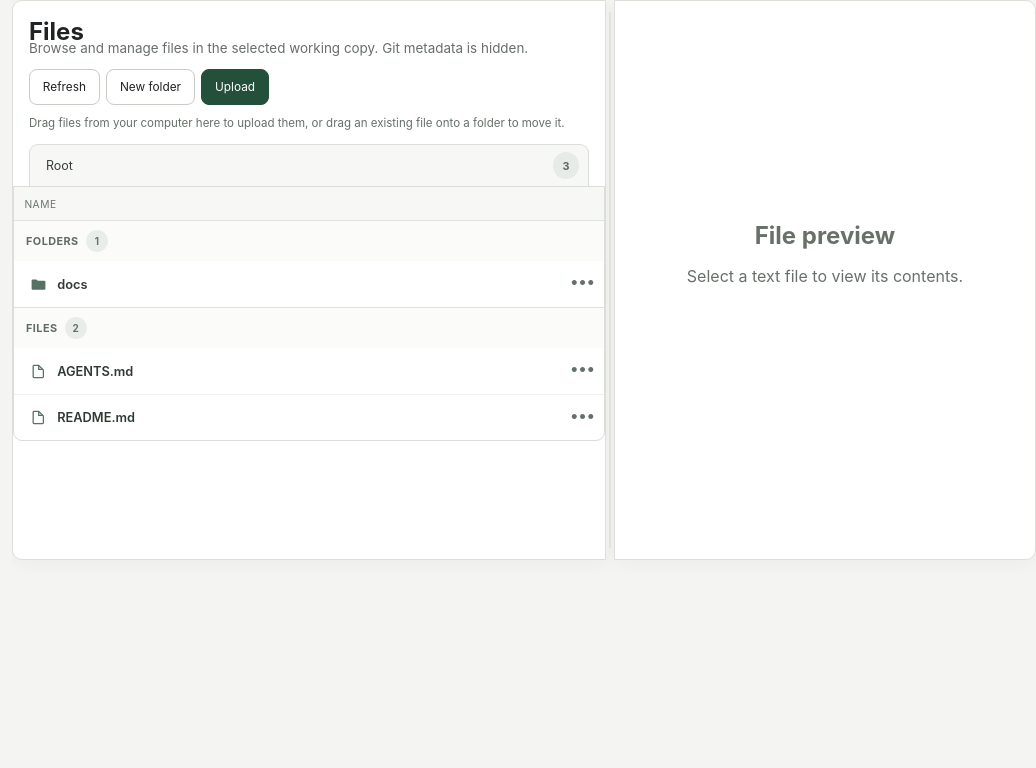
Test case: working tree file manager › lists the root folder, navigates into folders, and renders repository text as inert content
The width and height of the screenshot is (1036, 768).
Check: the button "docs" is shown, box top-left (14, 262), bottom-right (562, 307)
Click the button "README.md". click: (96, 418)
box: top-left (14, 395), bottom-right (562, 440)
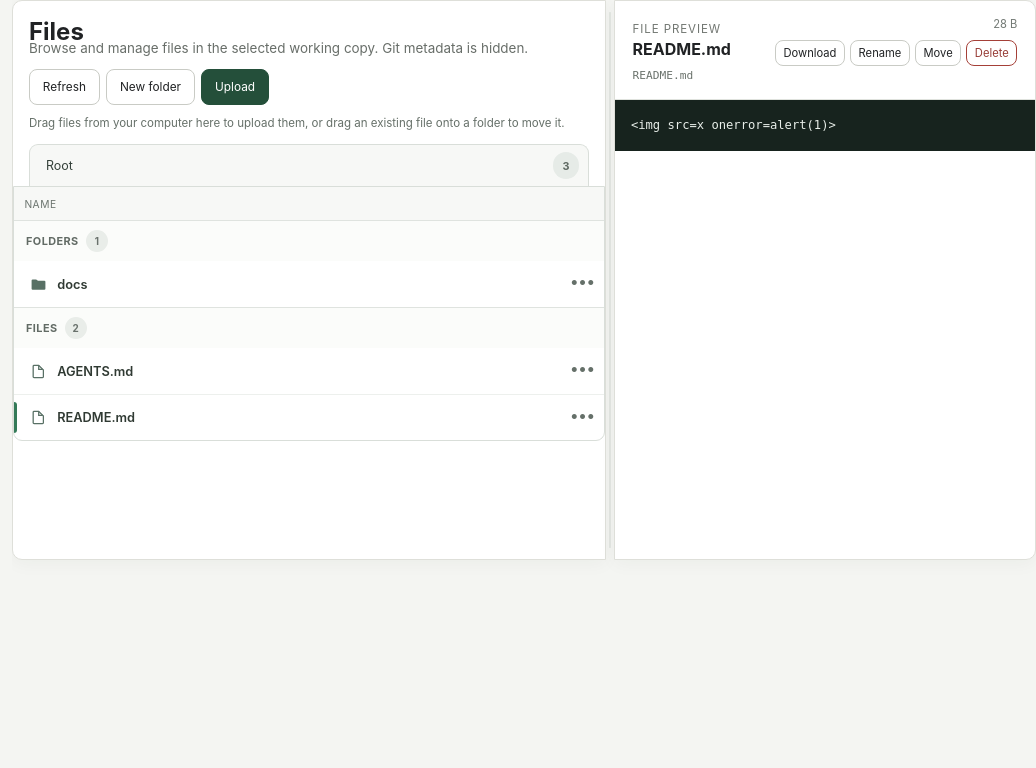
Check: the text "<img src=x onerror=alert(1)>" is shown, box top-left (631, 118), bottom-right (836, 132)
Click the button "docs". click: (72, 284)
box: top-left (14, 262), bottom-right (562, 307)
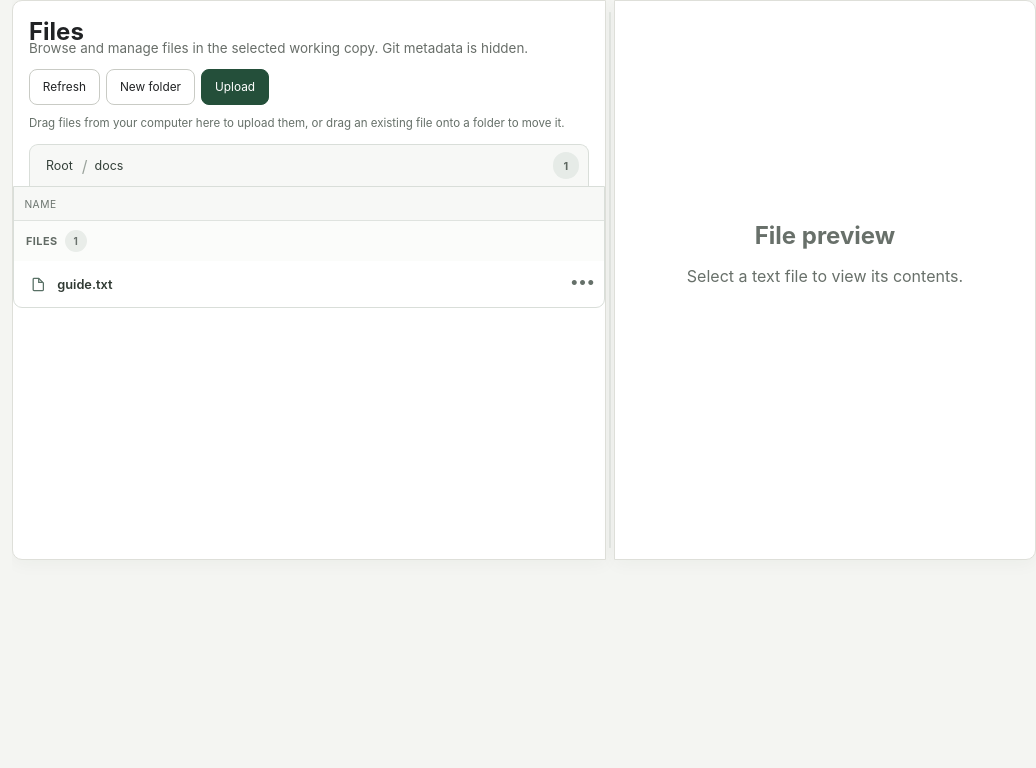
Check: the button "docs" is shown, box top-left (87, 153), bottom-right (131, 178)
Check: the button "guide.txt" is shown, box top-left (14, 262), bottom-right (562, 307)
